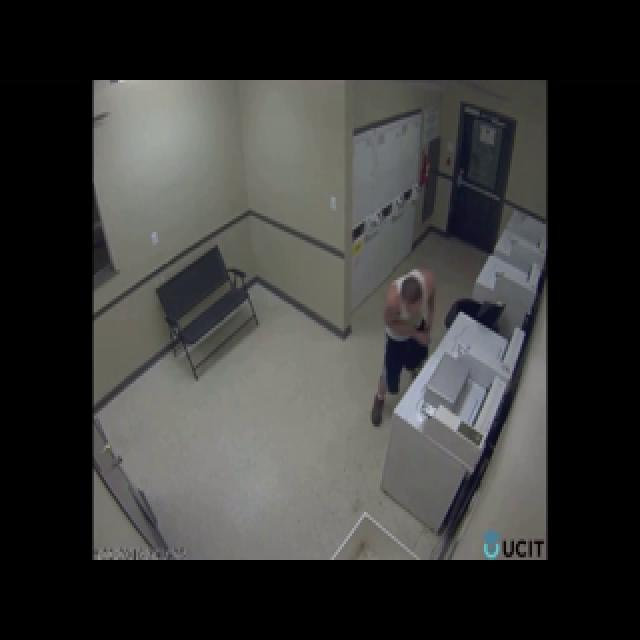arrest: (237, 0, 503, 538)
